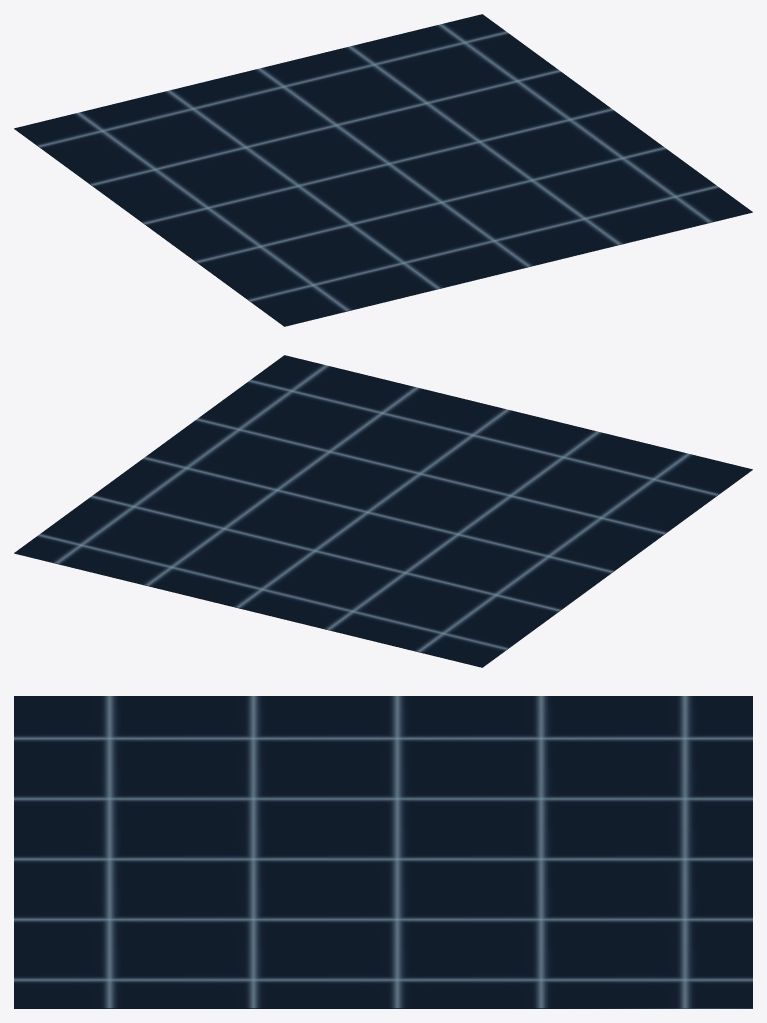
The model's file is floor.glb.
3 views of the same model, one above another, from view 1: azimuth 30°, elevation 25°; view 2: azimuth 150°, elevation 25°; view 3: azimuth 270°, elevation 25° (orthographic). The views are drawn at different scales.
Visible parts, largest first — view 1: Cube; view 2: Cube; view 3: Cube.
Boxes of the visible parts, x1=… form: Cube: x1=14, y1=14, x2=752, y2=326; Cube: x1=14, y1=355, x2=752, y2=667; Cube: x1=14, y1=696, x2=752, y2=1008.
Bounding box in the file's own units: 200 × 0.2 × 200.
1 material, 1 textured.
